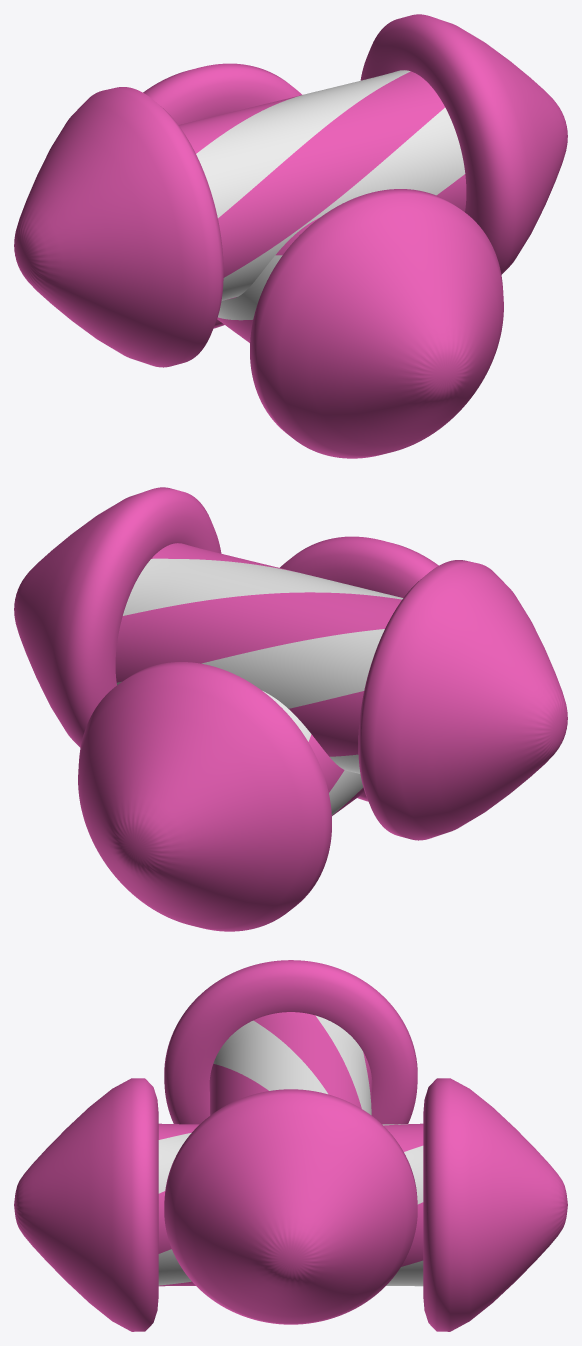
Rendered from RocketFourway.fbx.
3 views of the same model, one above another, from view 1: azimuth 30°, elevation 25°; view 2: azimuth 150°, elevation 25°; view 3: azimuth 270°, elevation 25° (orthographic). The views are drawn at different scales.
Visible parts, largest first — view 1: Rocket.001, Rocket; view 2: Rocket.001, Rocket; view 3: Rocket.001, Rocket.
Part boxes in pixels (x1=…): Rocket.001: x1=14, y1=14, x2=567, y2=367; Rocket: x1=143, y1=63, x2=503, y2=458; Rocket.001: x1=14, y1=487, x2=567, y2=840; Rocket: x1=78, y1=536, x2=438, y2=931; Rocket.001: x1=164, y1=960, x2=417, y2=1324; Rocket: x1=14, y1=1078, x2=567, y2=1331.
Bounding box in the file's own units: 0.7811 × 0.4551 × 0.7811.
